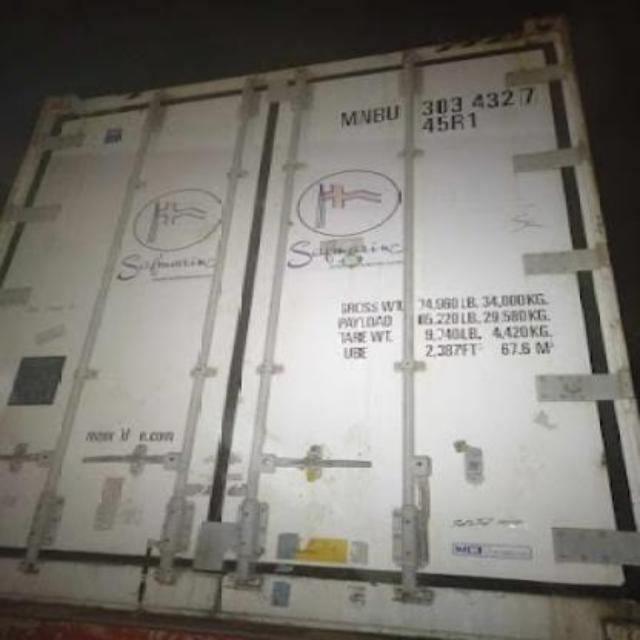0: (436, 97, 449, 117)
2: (500, 90, 518, 110)
3: (448, 96, 466, 114), (421, 99, 434, 117), (486, 94, 499, 108)
4: (468, 91, 486, 112)
7: (520, 85, 540, 106)
B: (372, 107, 388, 123)
M: (338, 109, 358, 127)
N: (358, 110, 374, 124)
U: (384, 105, 404, 121)
